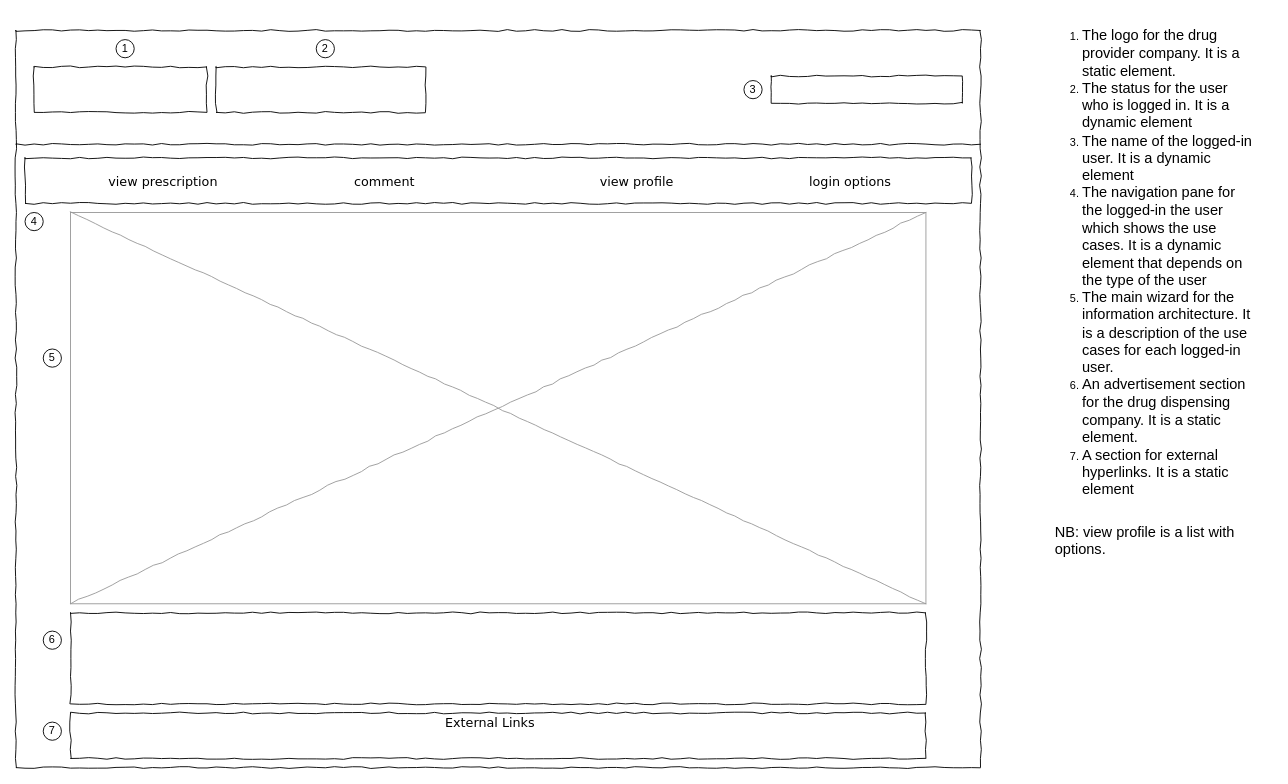
This 1288x784 diagram has some shape labels left out. Here are the shapes that lost their labels. From the top down, the centre of each, then its label:
At pixel 120 89: "LOGO".
At pixel 320 89: "Patient".
At pixel 866 89: "Mr Johnas".
At pixel 498 658: "At drug consultancy, your health is our ultimate focus".
